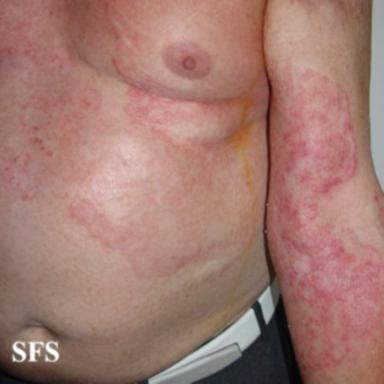Tinea-Corporis: (1, 1, 268, 283), (268, 54, 384, 380)
